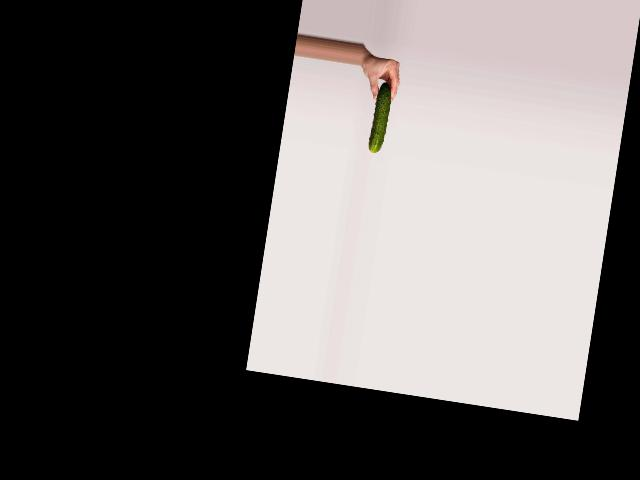cucumber: (368, 81, 393, 153)
